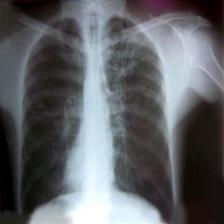tuberculosis: (14, 7, 178, 224)
